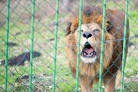lion: (67, 12, 119, 91)
